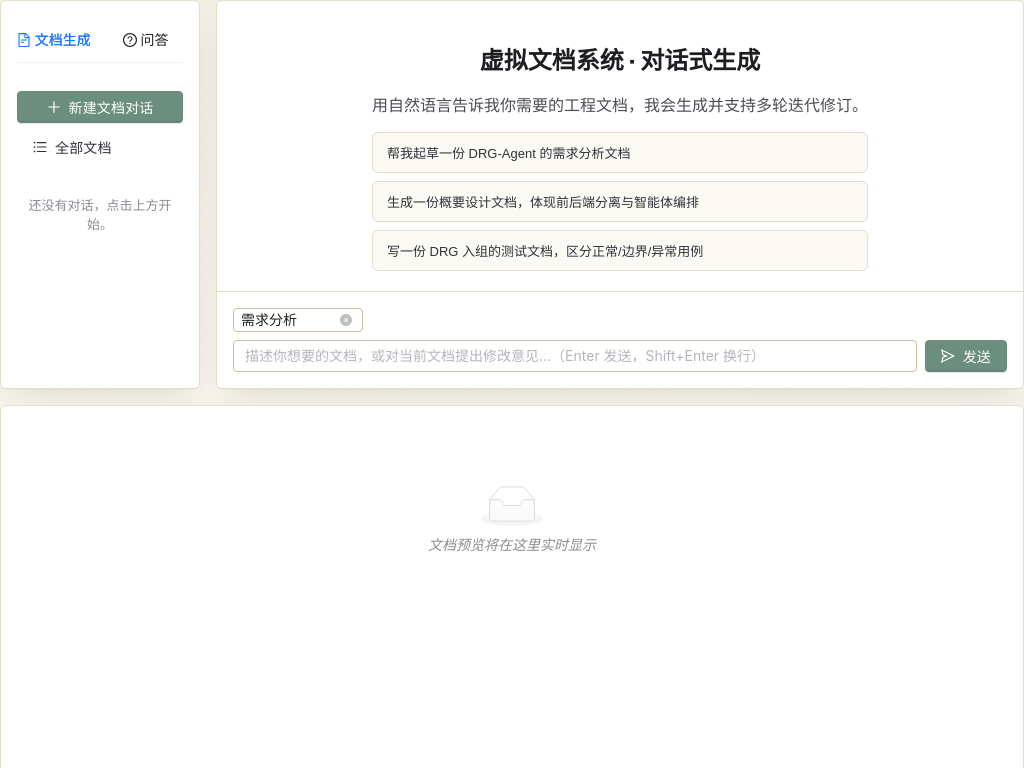
Test: DocumentSystem (对话工作台) › sends an instruction and renders the generated document preview
The width and height of the screenshot is (1024, 768).
Step 1. Type "帮我写一份需求文档" into the text box with placeholder "描述你想要的文档，或对当前文档提出修改意见…（Enter 发送，Shift+Enter 换行）" → (575, 356), box [233,340,917,372]
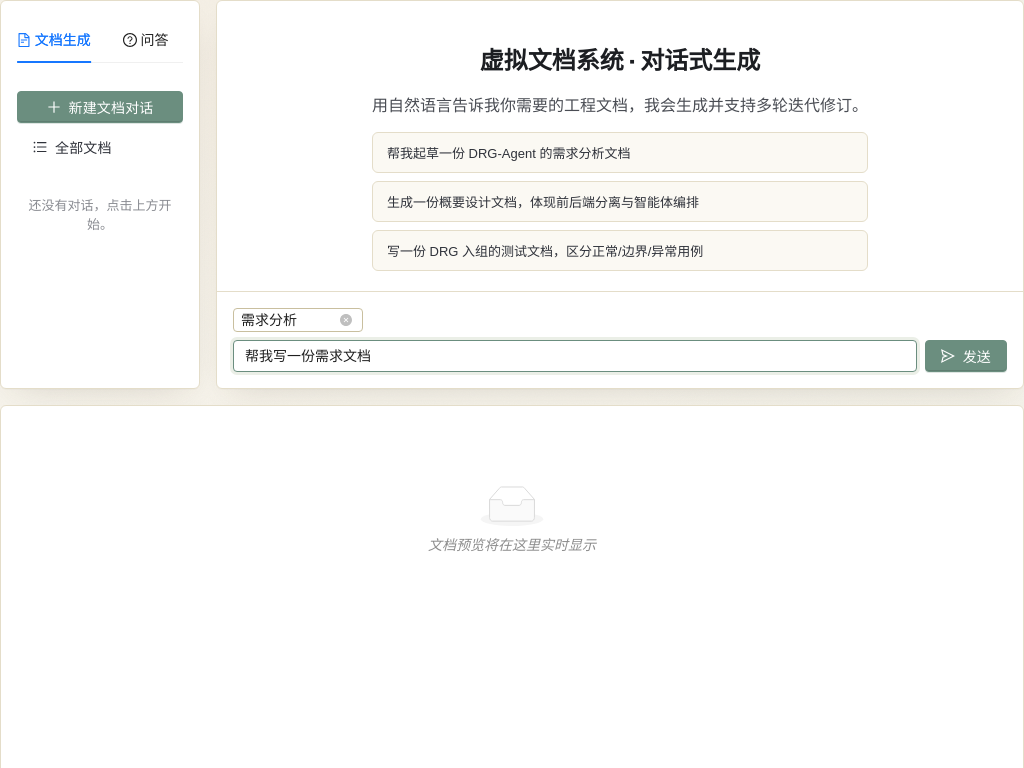
Step 2. Click the button "发送" → (966, 356), box [925,340,1007,372]
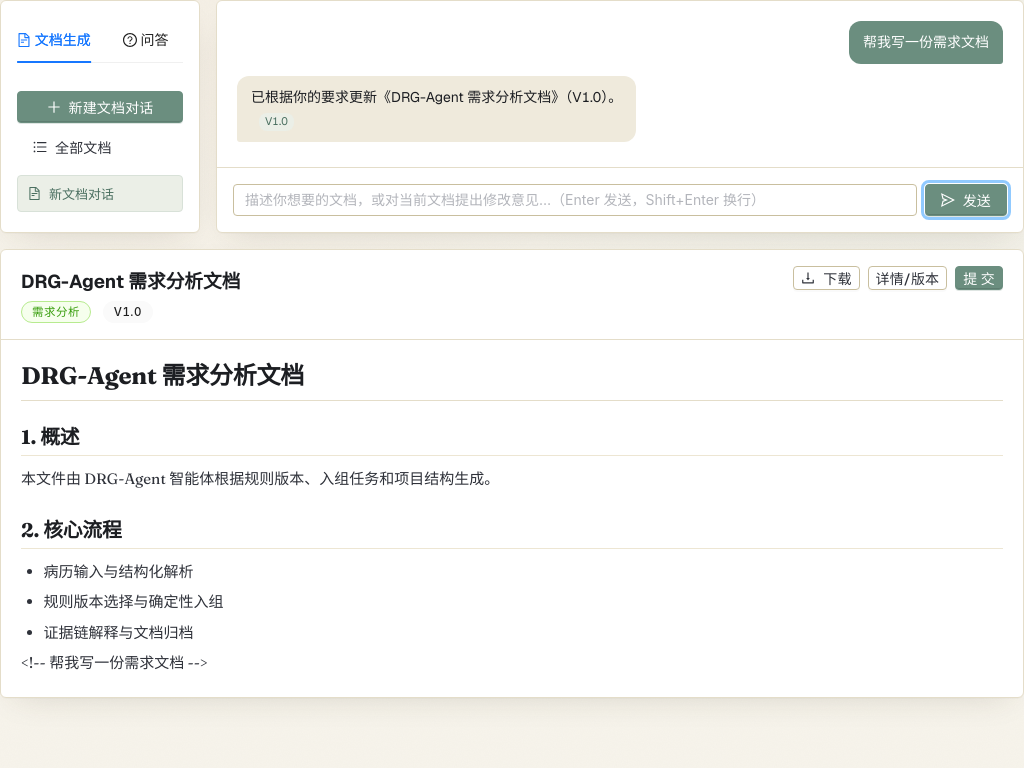
expect the text "帮我写一份需求文档" is shown: met, box [863,31,989,54]
expect the text "已根据你的要求更新《DRG-Agent 需求分析文档》（V1.0）。" is shown: met, box [251,86,622,109]
expect the button "提 交" is shown: met, box [955,266,1003,290]
